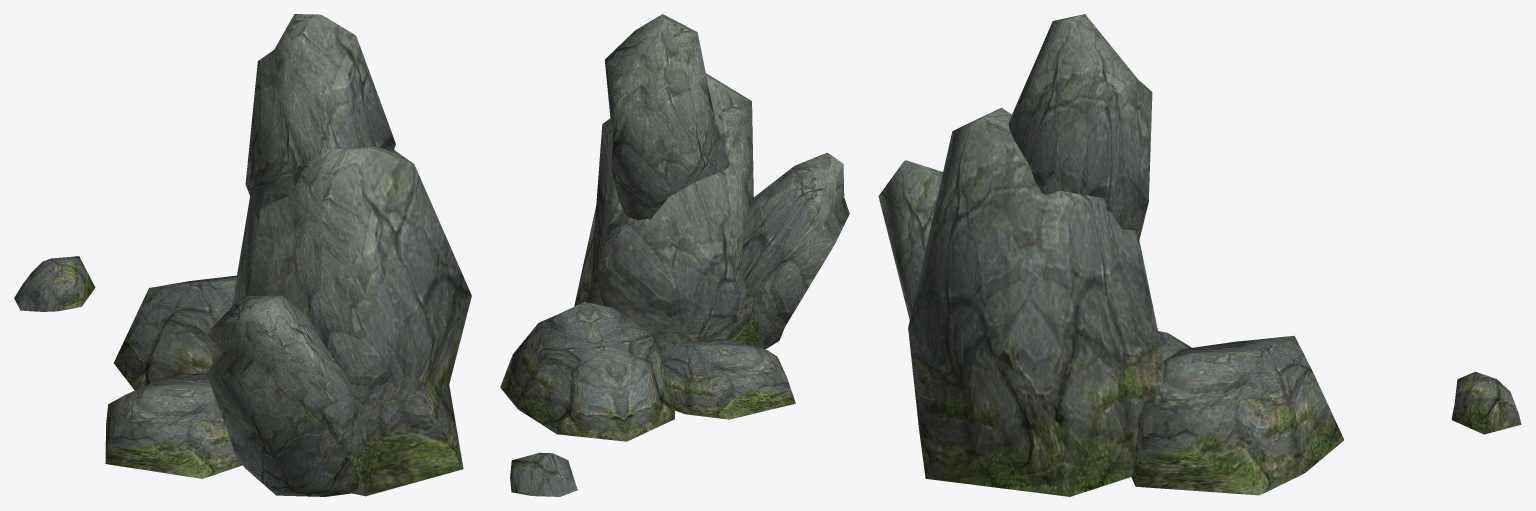
The model's file is shitou_wlc_40.FBX.
3 renders of one model, left to right at view 1: azimuth 30°, elevation 25°; view 2: azimuth 150°, elevation 25°; view 3: azimuth 270°, elevation 25°, orthographic. The views are drawn at different scales.
Parts seen in each view (by area): view 1: shitou_wlc_40; view 2: shitou_wlc_40; view 3: shitou_wlc_40.
Part boxes in pixels (x1,y1,x2,y2): shitou_wlc_40: [14, 14, 471, 496]; shitou_wlc_40: [500, 14, 849, 496]; shitou_wlc_40: [878, 14, 1521, 496].
Size of what is drawn, in the model's own units: 535 by 702 by 967.
